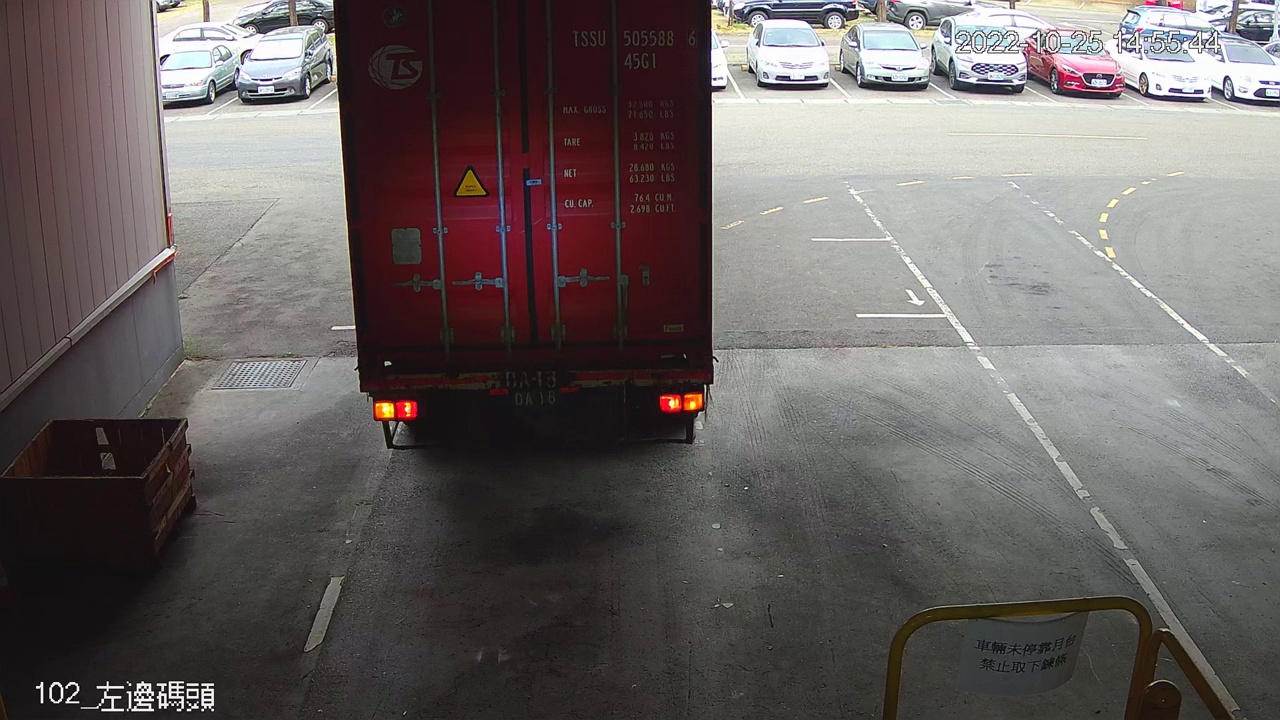container: (561, 20, 706, 76)
